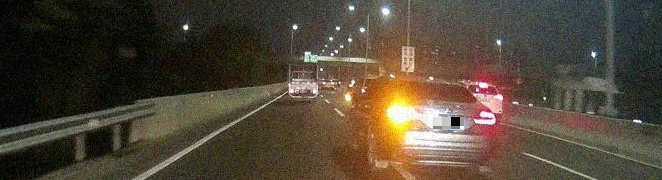L_light: (387, 105, 415, 122)
R_light: (471, 109, 496, 125)
T_light: (423, 80, 442, 86)
night-left: (379, 75, 496, 171)
plate_1: (433, 117, 464, 129)
